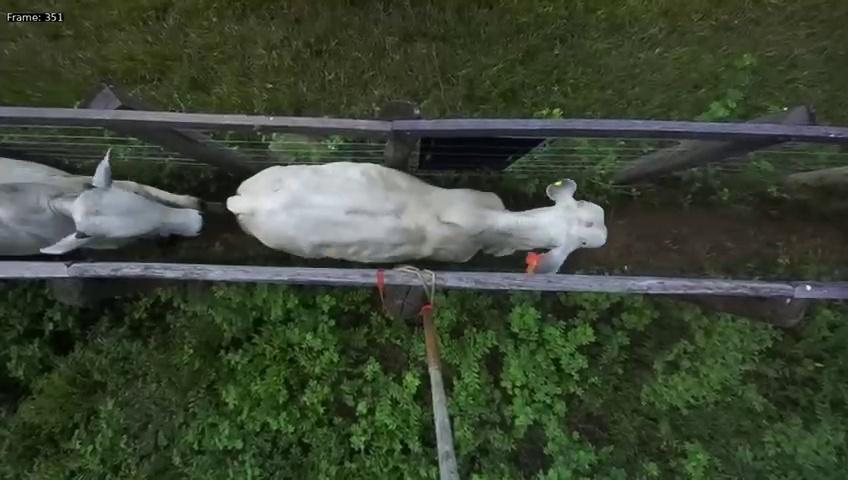cattle: (220, 132, 608, 275)
